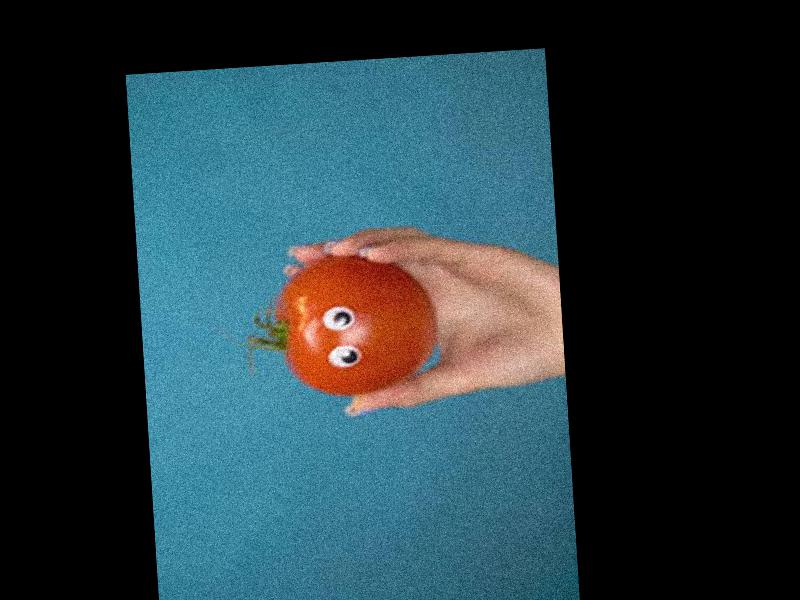Tomato: (270, 249, 441, 401)
